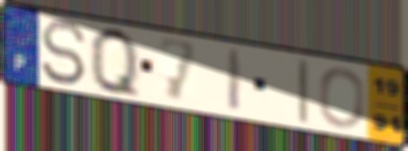7: (156, 35, 199, 106)
I: (225, 46, 245, 115), (296, 57, 310, 127)
O: (317, 66, 367, 130)
Q: (88, 24, 143, 103)
S: (38, 17, 89, 88)
